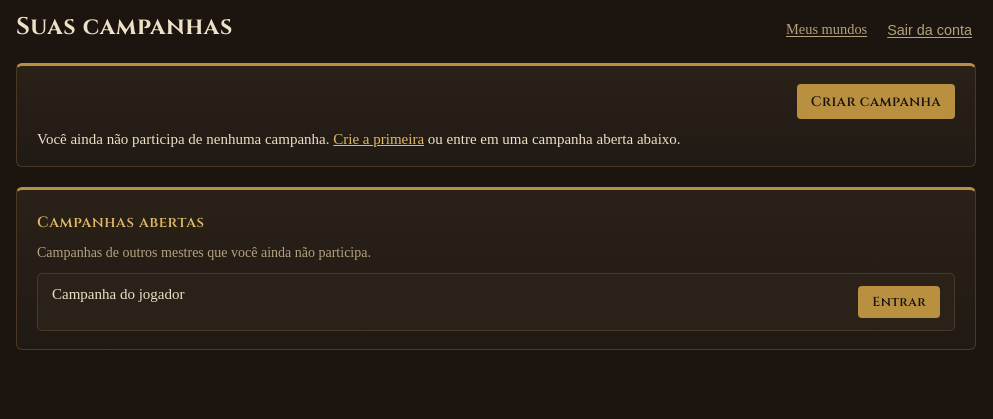
Test: campanhas abertas › exibe erro e permanece na lista quando entrar falha
The width and height of the screenshot is (993, 419).
Click the button with aria-label "Entrar em Campanha do jogador": {"x": 899, "y": 302} 858,286 -> 940,318
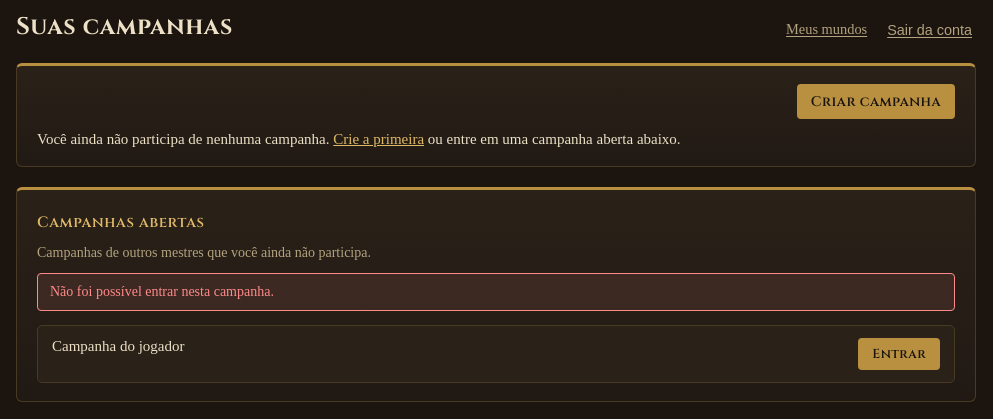
Expected: the text "Campanha do jogador" is shown, 52,338 -> 184,354
Now the message shows "Não foi possível entrar", box 50,284 -> 274,299
